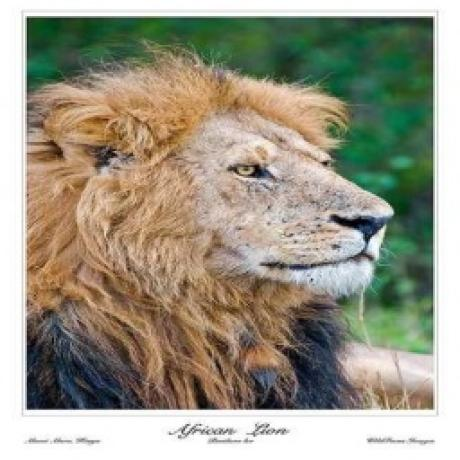Lion: (26, 42, 397, 410)
